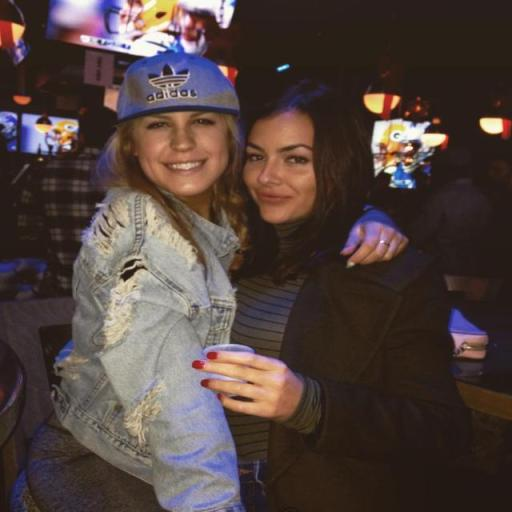Adidas: (144, 63, 198, 103)
